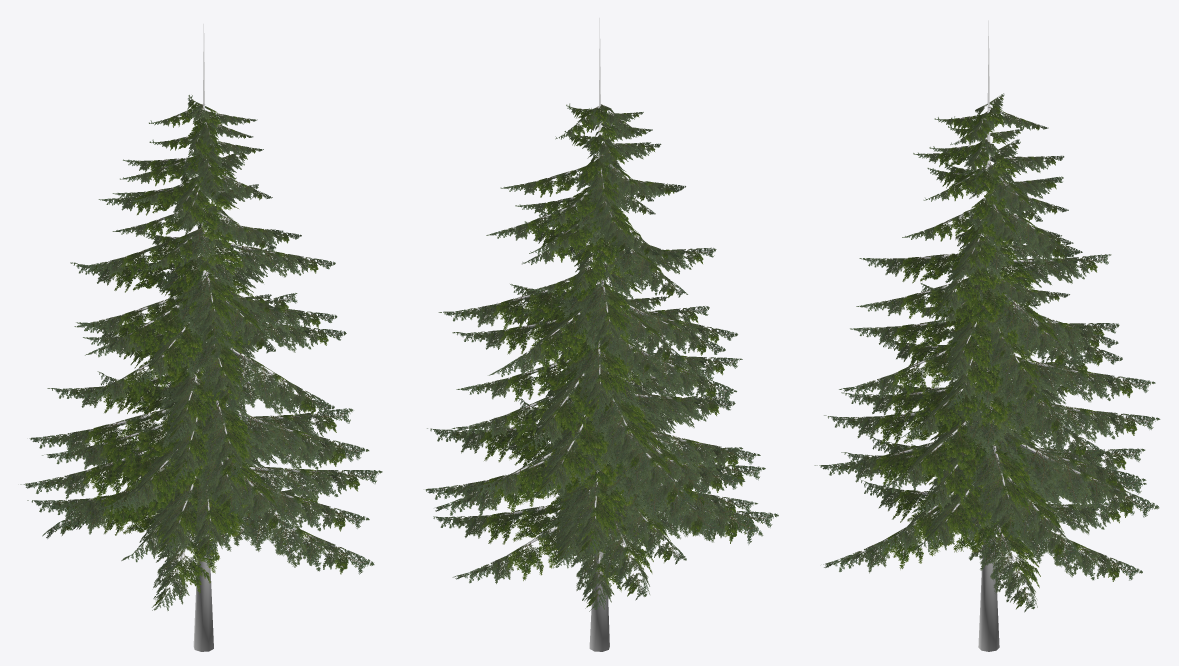
Rendered from Tree2.fbx.
3 renders of one model, left to right at view 1: azimuth 30°, elevation 25°; view 2: azimuth 150°, elevation 25°; view 3: azimuth 270°, elevation 25°, orthographic.
Parts seen in each view (by area): view 1: Tree2; view 2: Tree2; view 3: Tree2.
Boxes of the visible parts, <box> form: Tree2: <box>20,24,382,651</box>; Tree2: <box>425,18,778,651</box>; Tree2: <box>814,20,1160,651</box>.
Bounding box in the file's own units: 1.98 × 3.63 × 1.83.
